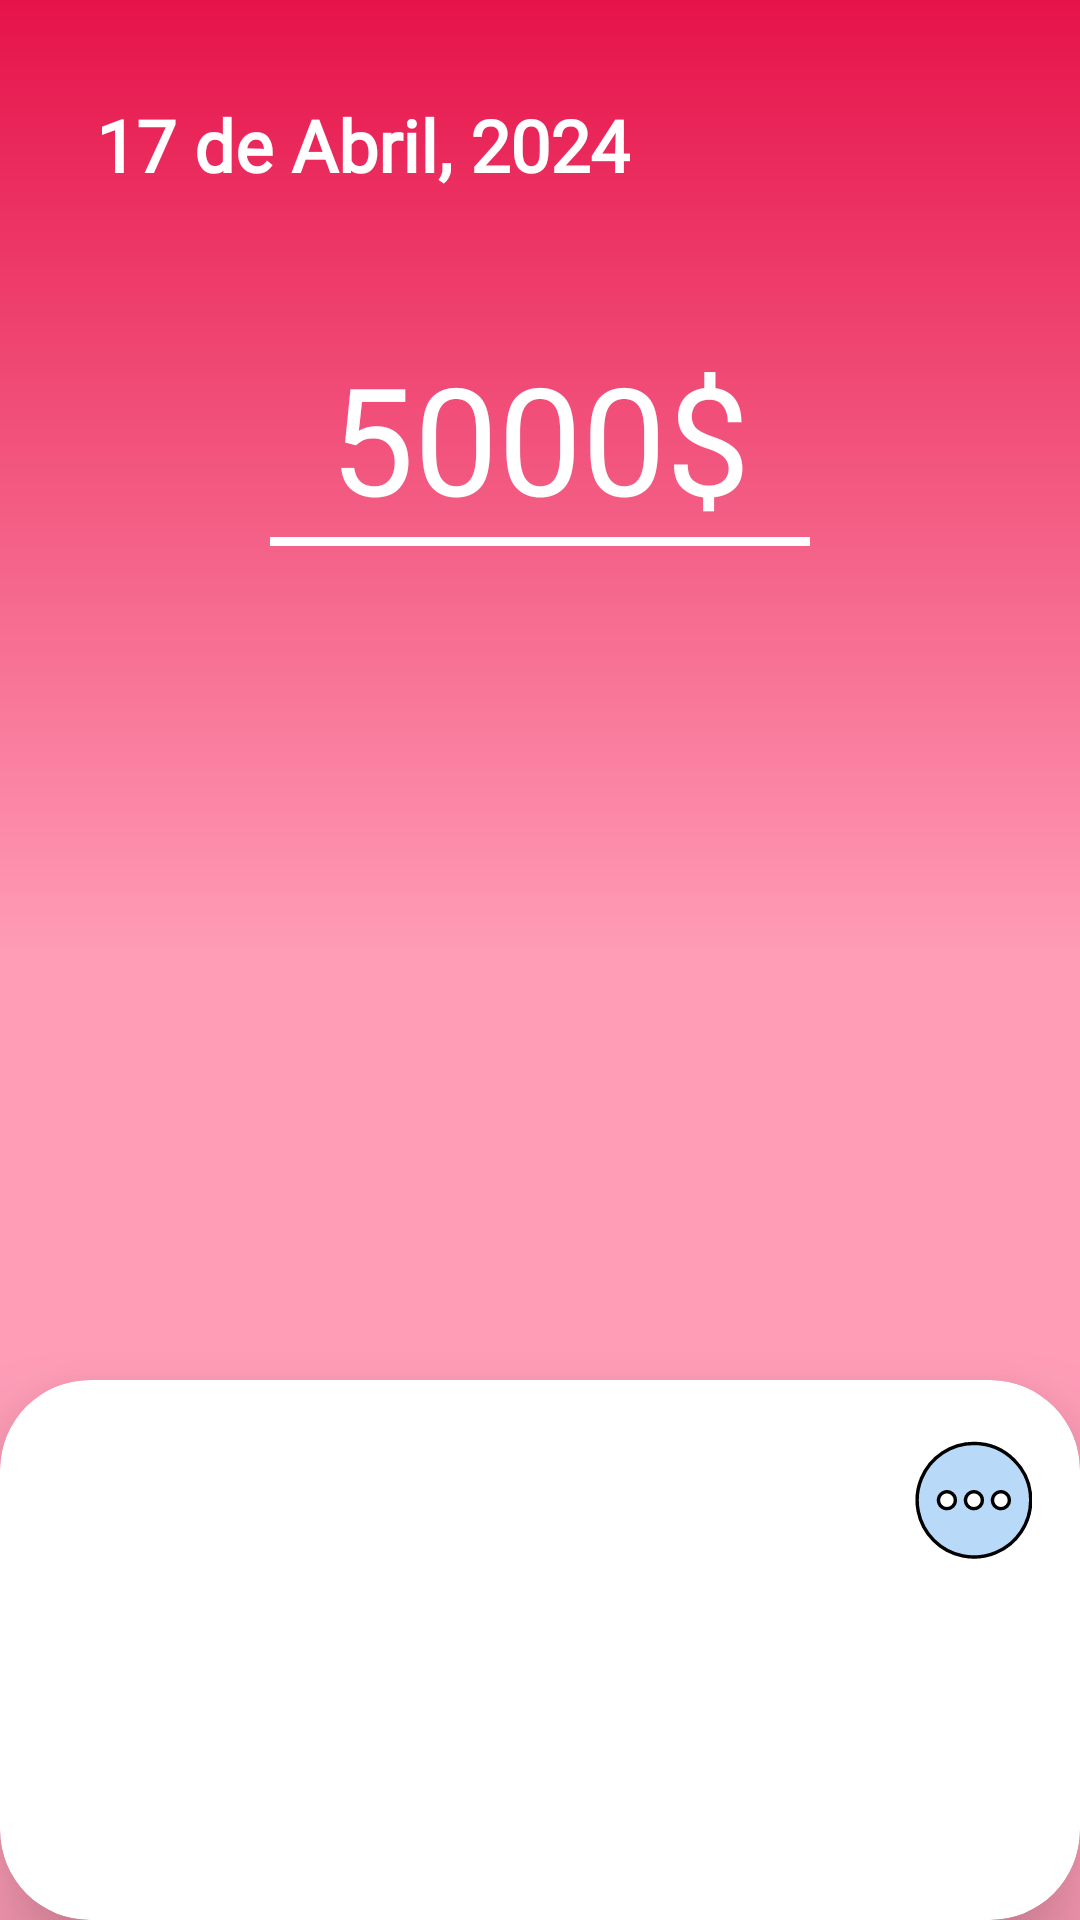

Locate icon controls on the screen. Image size 1080*1920, boxes as (x1, y1, x2, y2).
dots: (915, 1441, 1032, 1559)
